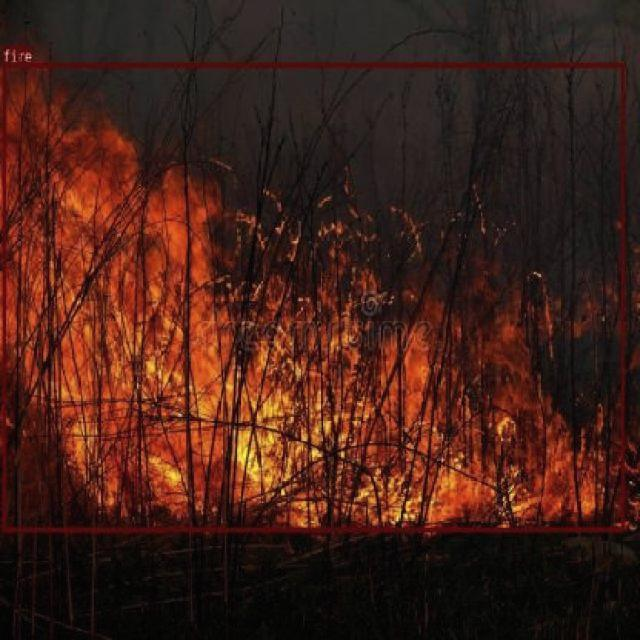fire: (2, 62, 624, 530)
